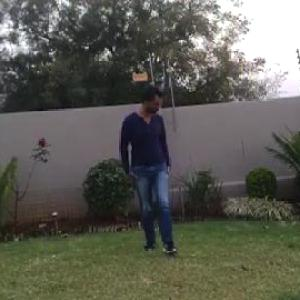follow: (122, 80, 178, 256)
